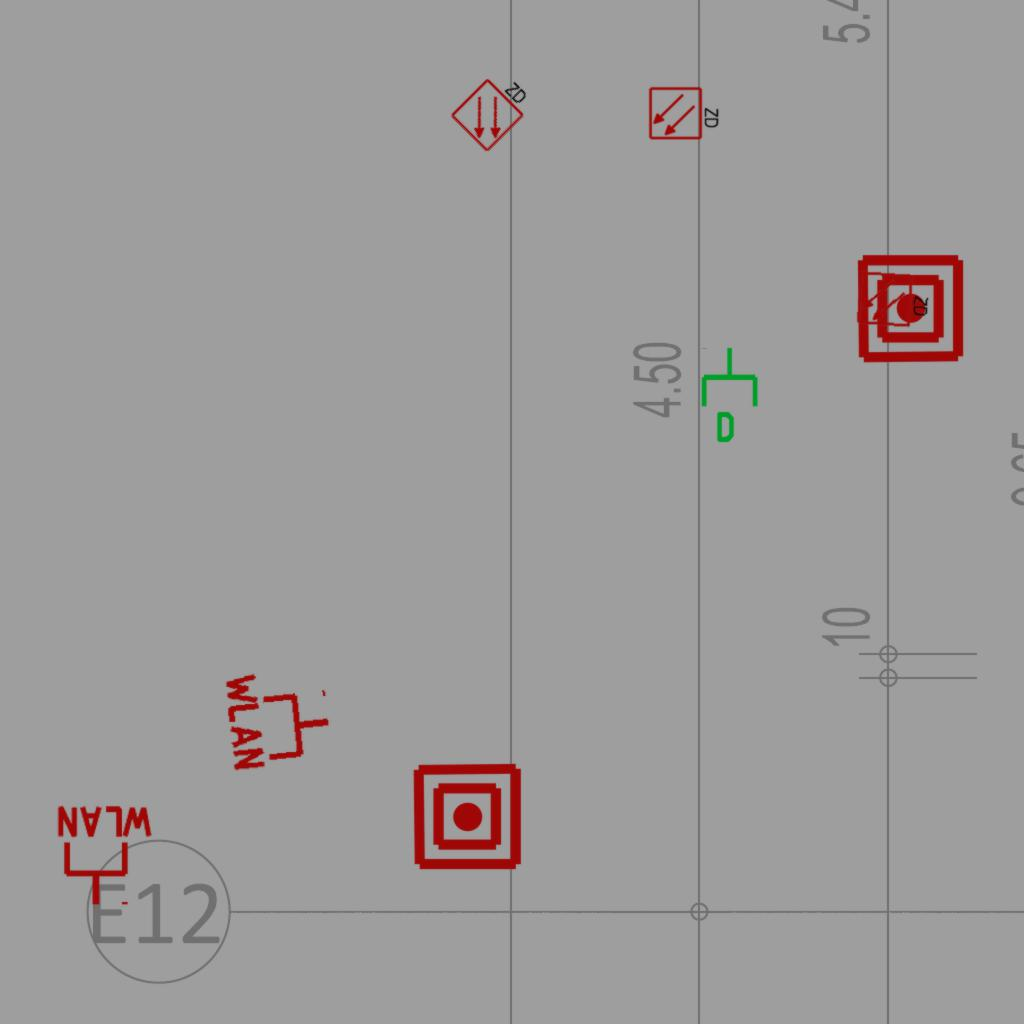Datenanschluss_einfach: (697, 345, 766, 445)
NAM-Nichtautomatischer_Melder: (411, 760, 524, 873), (854, 252, 967, 365)
WLAN: (221, 660, 338, 776), (53, 804, 157, 909)
ZD_Melder_in_Zwischendecke_mit_Revisionsoeffnung_mind_40_x_40_cm: (447, 61, 540, 155), (855, 267, 934, 331), (648, 84, 722, 141)
